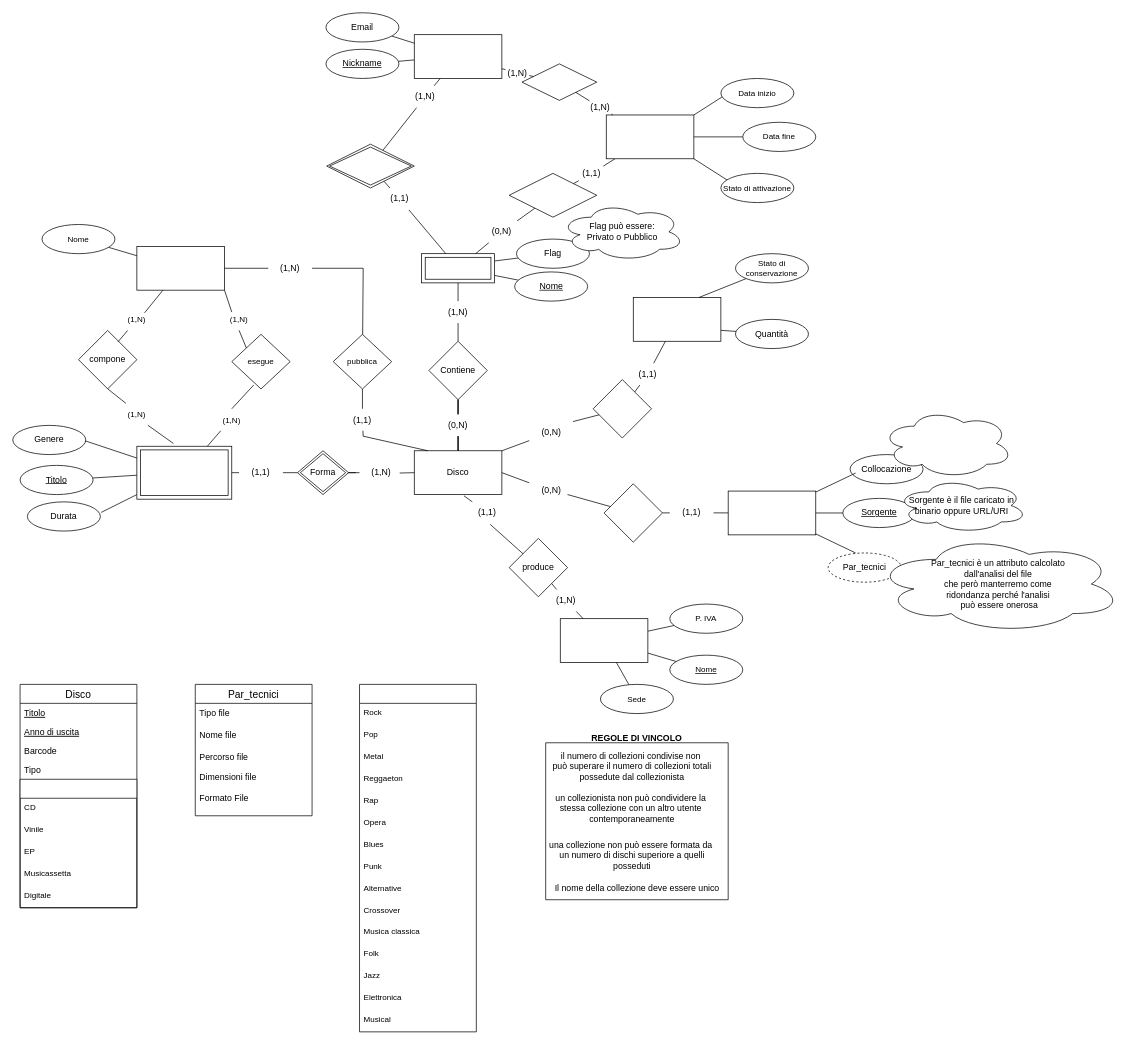
This 1135x1047 diagram has some shape labels left out. Each missing label, with the box of its shape:
Artista: (136, 246, 224, 290)
Brano: (136, 446, 232, 499)
Collezione: (421, 253, 495, 283)
Collezionista: (414, 34, 502, 78)
Condivisione: (606, 114, 694, 159)
Copia: (633, 297, 721, 341)
effettua: (521, 63, 597, 100)
Etichetta: (560, 618, 648, 662)
Immagini: (727, 490, 816, 535)
Lista dei generi(ENUM): (359, 684, 476, 1032)
Posizione dell'immagine fisica sul disco: copertina,retro...: (881, 408, 1013, 478)
Possiede: (326, 143, 414, 188)
quantizza: (592, 379, 652, 438)
Raffigura: (603, 483, 662, 542)
Tipo di disco (ENUM): (19, 779, 137, 908)
è oggetto di: (508, 173, 597, 217)
